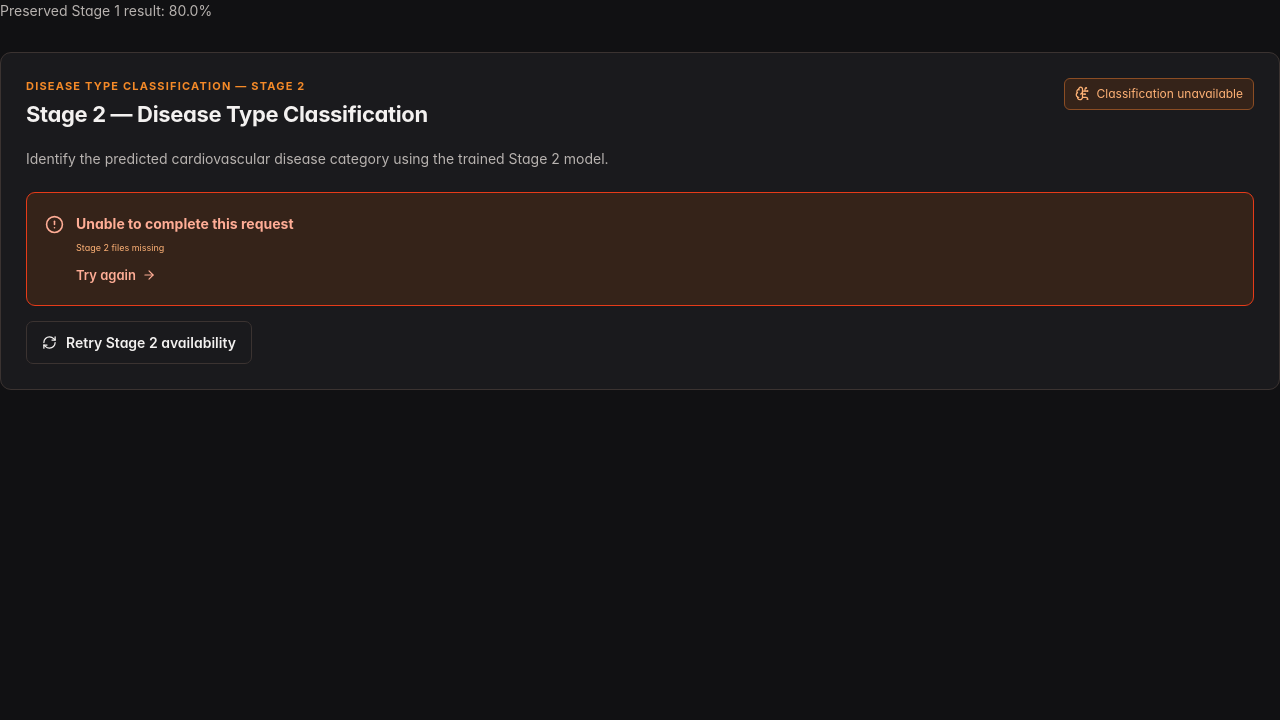
Test: Stage 2 extension › can retry Stage 2 availability without resubmitting Stage 1
expect the text "Classification unavailable" is shown: met, box [1064,78,1254,110]
Click the button "Retry Stage 2 availability": (139, 342) [26,320,252,364]
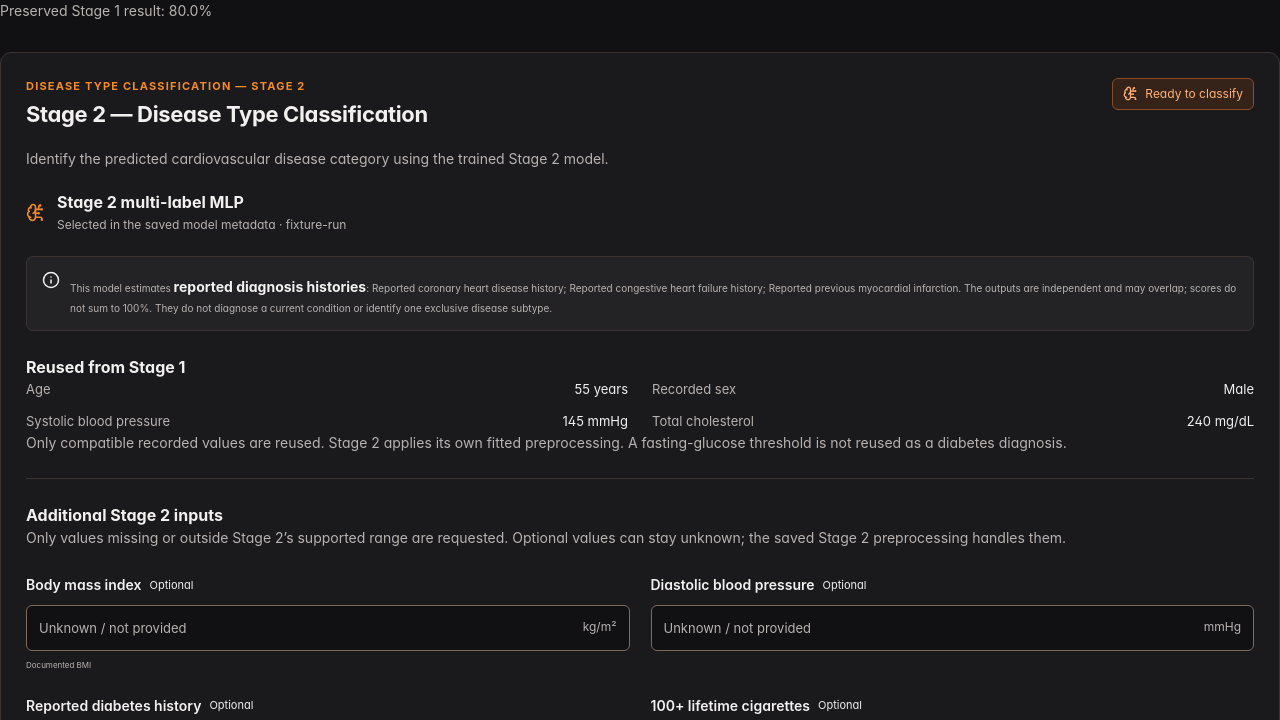
expect the text "Preserved Stage 1 result: 80.0%" is shown: met, box [0,2,212,19]
expect the text "Ready to classify" is shown: met, box [1112,78,1254,110]
